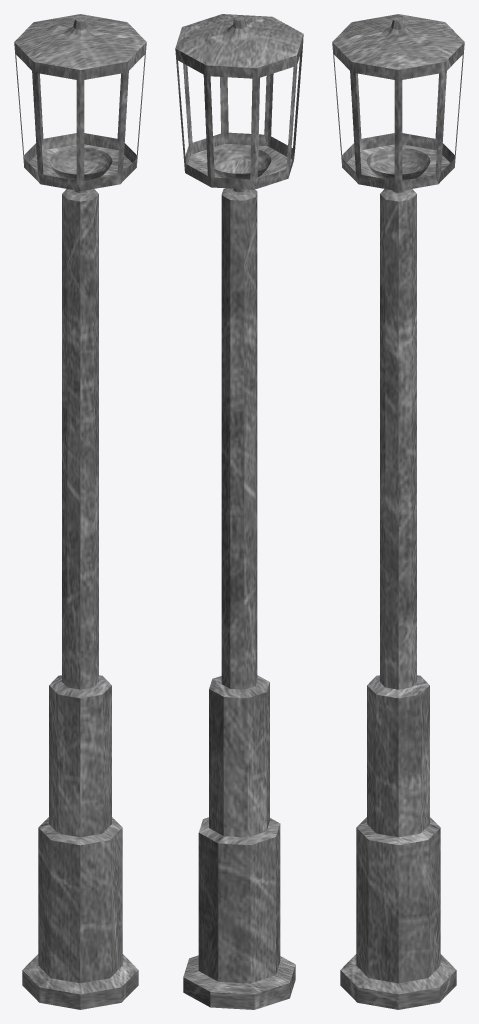
The model's file is lamp.obj.
3 renders of one model, left to right at view 1: azimuth 90°, elevation 25°; view 2: azimuth 150°, elevation 25°; view 3: azimuth 270°, elevation 25°, orthographic.
Parts seen in each view (by area): view 1: Cylinder; view 2: Cylinder; view 3: Cylinder.
Part boxes in pixels (x1,y1,x2,y2): Cylinder: [14, 14, 146, 1009]; Cylinder: [175, 14, 303, 1009]; Cylinder: [332, 14, 464, 1009].
Size of the model in its own units: 0.8878 by 7.13 by 0.8878.
Materials: 1 (1 with a texture image).
